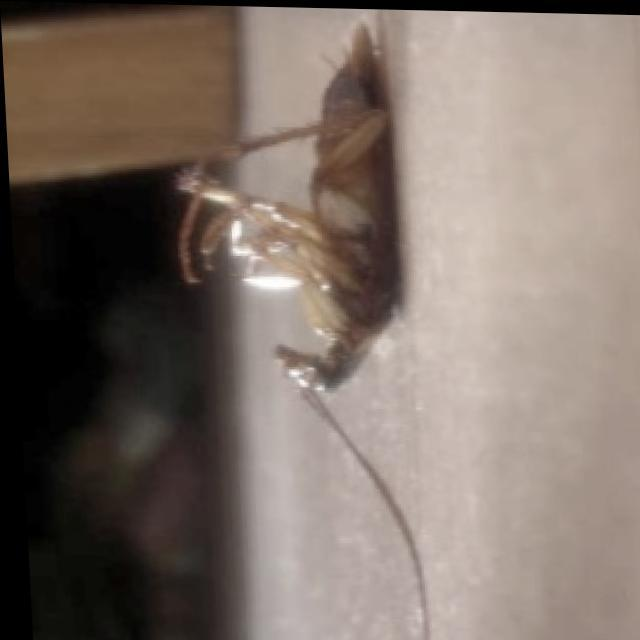cockroach: (164, 19, 401, 458)
